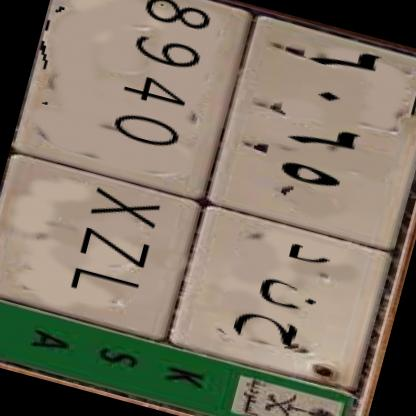english: (0, 0, 232, 335)
